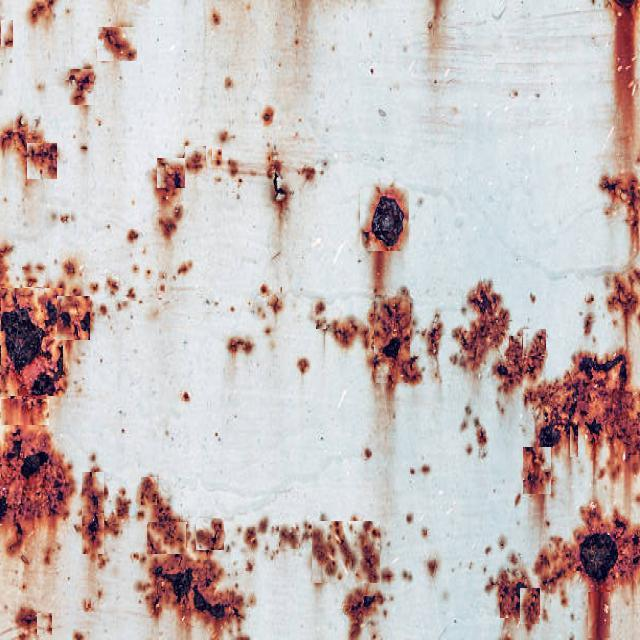Corrosion: (452, 281, 640, 497), (0, 288, 92, 530), (491, 504, 640, 640), (245, 520, 393, 640), (138, 477, 244, 640), (314, 289, 424, 394), (601, 171, 640, 348), (0, 114, 58, 180), (81, 473, 104, 556), (372, 195, 406, 248), (64, 64, 96, 106), (98, 27, 137, 61), (27, 0, 54, 24), (0, 19, 12, 46)
